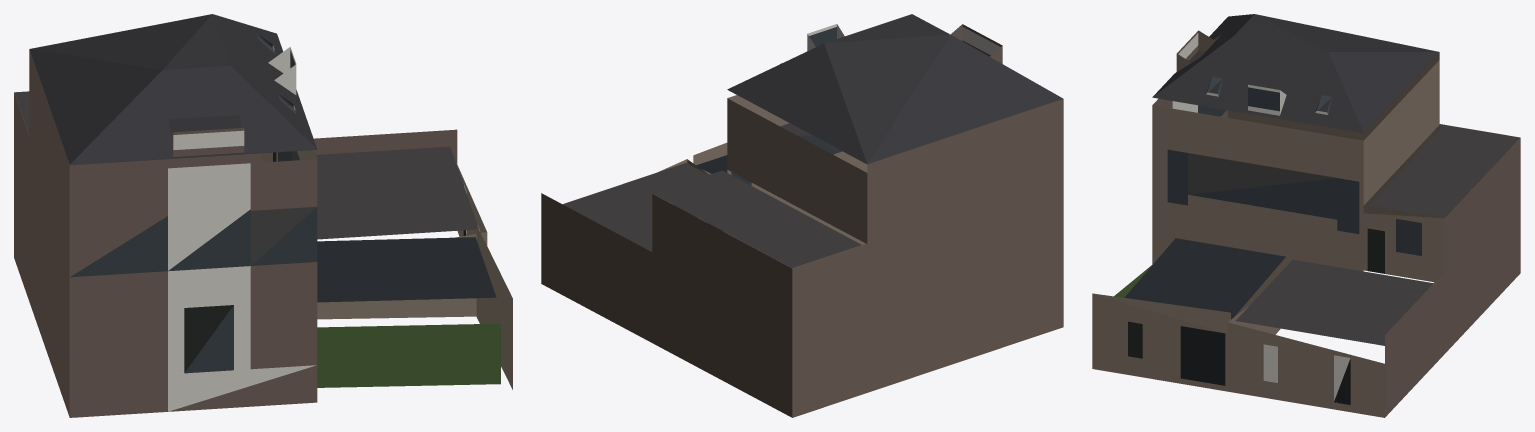
The model's file is morgan-mees.lod2.glb.
The picture shows the model from 3 angles, left to right: view 1: azimuth 30°, elevation 25°; view 2: azimuth 150°, elevation 25°; view 3: azimuth 270°, elevation 25°; orthographic projection. The views are drawn at different scales.
Parts seen in each view (by area): view 1: lod2; view 2: lod2; view 3: lod2.
Boxes of the visible parts, bbox=[...] form: lod2: bbox=[14, 14, 512, 417]; lod2: bbox=[541, 14, 1063, 417]; lod2: bbox=[1092, 14, 1520, 417].
Bounding box in the file's own units: 23.35 × 14.3 × 21.83.
